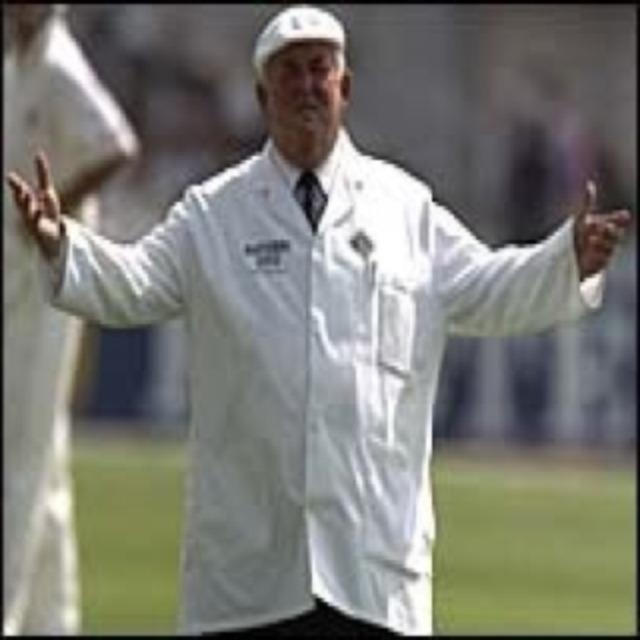Wide: (13, 6, 632, 640)
